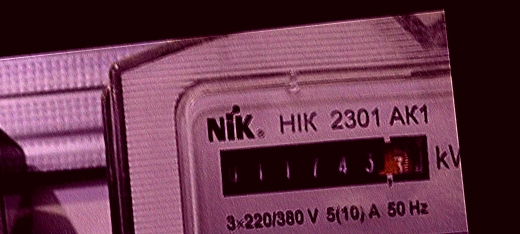0: (225, 157, 242, 186)
1: (252, 154, 269, 184), (280, 152, 296, 182)
3: (361, 147, 378, 176), (391, 154, 408, 177)
4: (335, 151, 352, 178)
7: (307, 152, 324, 179)
screen: (211, 122, 443, 210)
